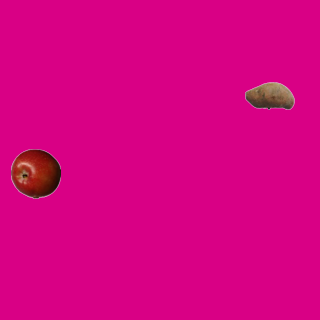Apple Braeburn: (10, 148, 60, 198)
Potato Sweet: (244, 70, 294, 120)
